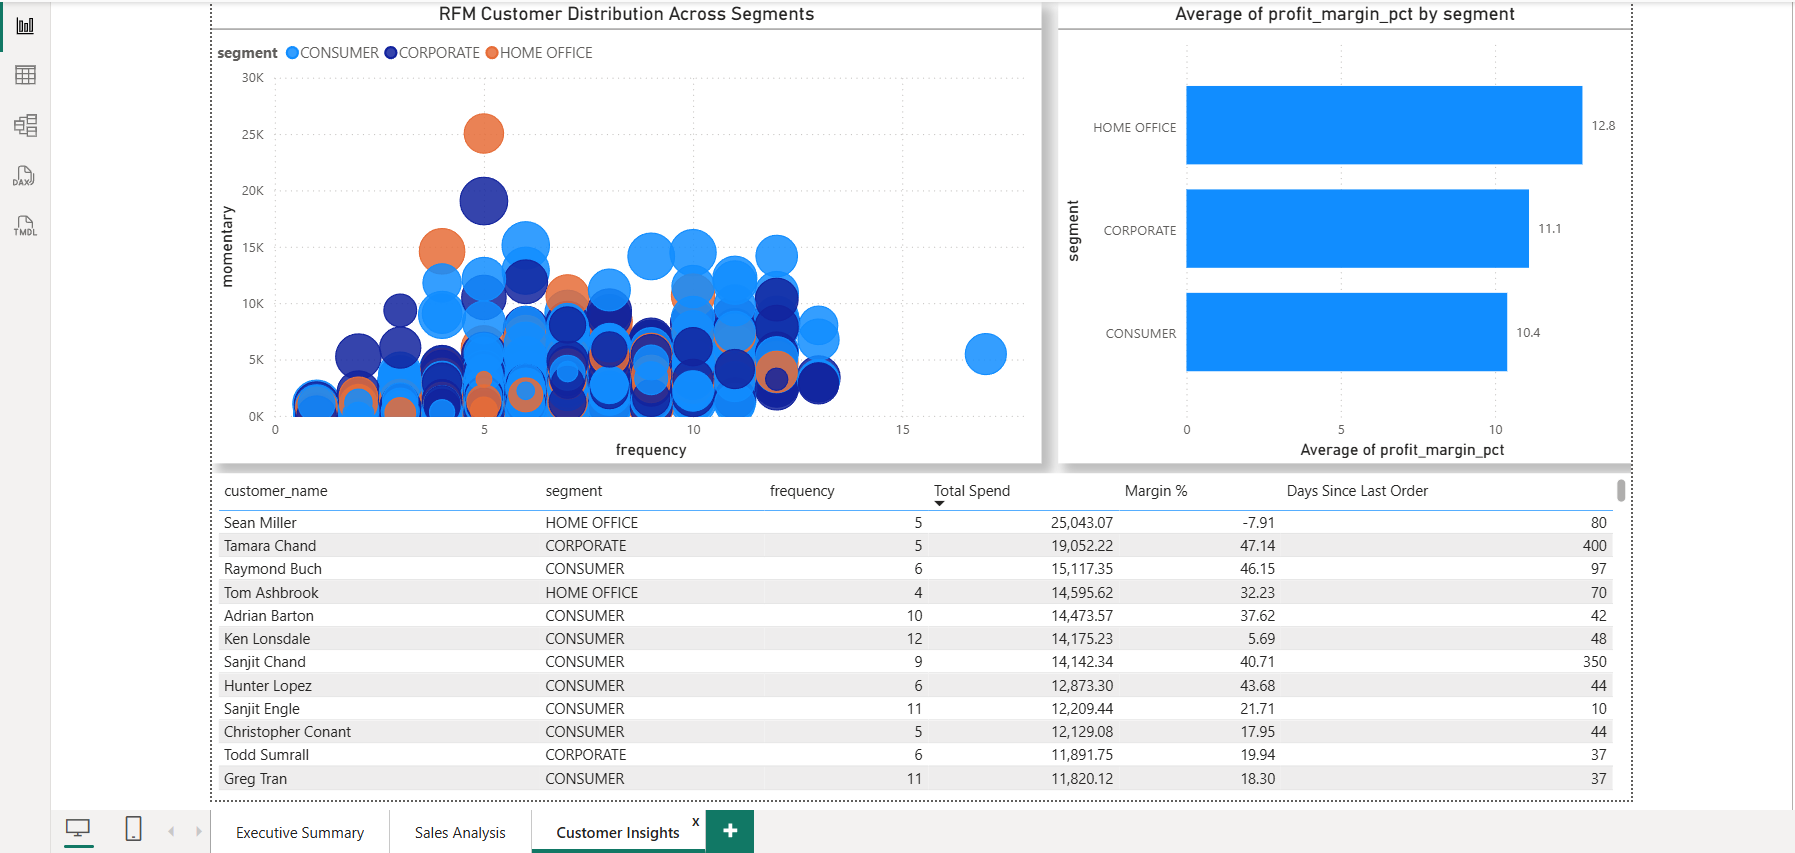

The page's visual inventory and layout, read from the dashboard file:
{"tool":"powerbi","page":{"name":"Customer Insights","canvas":[1280,720],"ordinal":2},"visuals":[{"type":"scatterChart","title":"RFM Customer Distribution Across Segments","fields":{"X":["customer_segments.frequency"],"Y":["customer_segments.momentary"],"Series":["customer_segments.segment"],"Size":["Sum(customer_segments.profit_margin_pct)"]},"box":[0,0,747.7,416.3],"z":0},{"type":"clusteredBarChart","fields":{"Category":["customer_segments.segment"],"Y":["Avg(customer_segments.profit_margin_pct)"]},"box":[763,0,517.3,415.8],"z":1000},{"type":"tableEx","fields":{"Values":["customer_segments.customer_name","customer_segments.segment","customer_segments.frequency","customer_segments.momentary","customer_segments.profit_margin_pct","customer_segments.recency_days"]},"box":[0,425.4,1280.3,295],"z":2000}]}

Visuals, with their boxes on the page's 1280x720 design canvas (x1, y1, x2, y2). These are canvas units, not pixel positions in the 1795x853 screenshot, which may show the page scaled, cropped or inside an application window:
"RFM Customer Distribution Across Segments" scatterChart: (0, 0, 748, 416)
clusteredBarChart - customer_segments.segment x Avg(customer_segments.profit_margin_pct): (763, 0, 1280, 416)
tableEx - customer_segments.customer_name x customer_segments.segment: (0, 425, 1280, 720)
